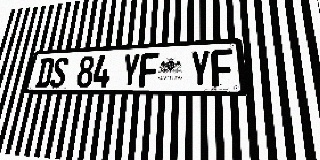4: (92, 55, 112, 88)
8: (75, 56, 96, 88)
D: (35, 58, 55, 88)
F: (211, 49, 234, 87), (138, 52, 159, 87)
S: (49, 57, 69, 88)
Y: (190, 50, 211, 87), (120, 53, 141, 87)
